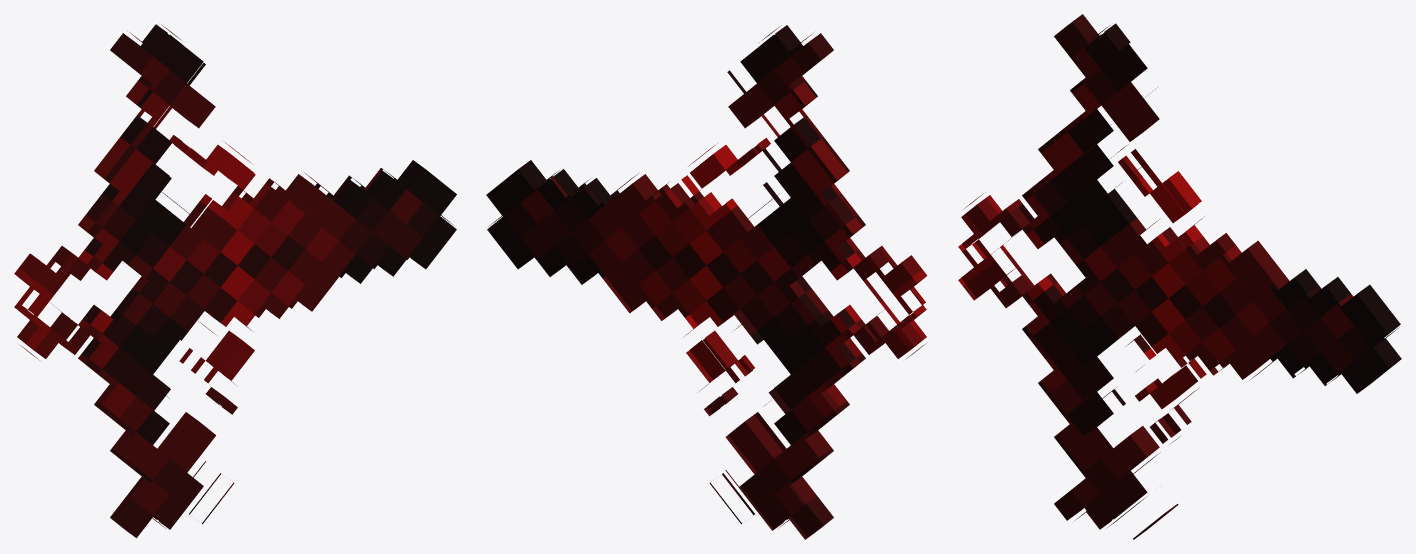
The model's file is SM_HeavyCrossbow_Unique2_2.glb.
The picture shows the model from 3 angles, left to right: view 1: azimuth 30°, elevation 25°; view 2: azimuth 150°, elevation 25°; view 3: azimuth 330°, elevation 25°; orthographic projection.
Visible parts, largest first — view 1: SM_HeavyCrossbow_Unique2_2.001; view 2: SM_HeavyCrossbow_Unique2_2.001; view 3: SM_HeavyCrossbow_Unique2_2.001.
Part boxes in pixels (box(x1,y1,x2,y2)): SM_HeavyCrossbow_Unique2_2.001: box(14, 24, 456, 537); SM_HeavyCrossbow_Unique2_2.001: box(486, 25, 927, 539); SM_HeavyCrossbow_Unique2_2.001: box(958, 14, 1401, 539).
Bounding box in the file's own units: 119 × 133 × 6.25.
Materials: 1 (1 with a texture image).
